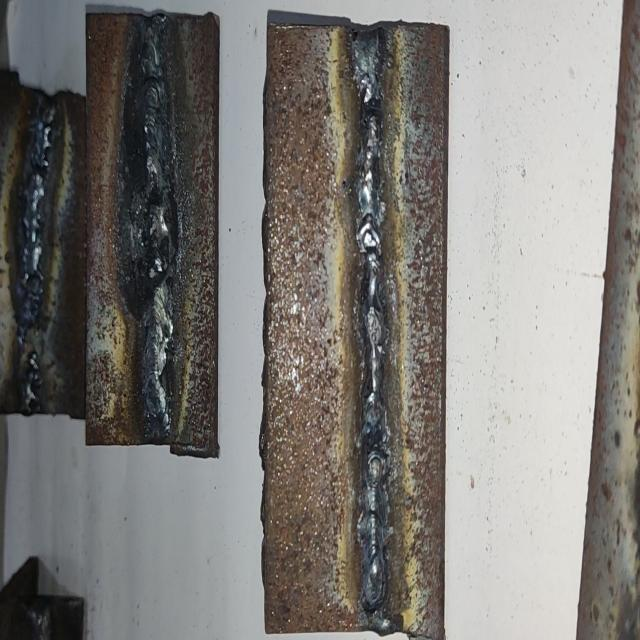Defect: (126, 185, 180, 302), (18, 303, 50, 386)
Welding Line: (355, 29, 387, 616), (140, 26, 172, 437), (20, 100, 56, 405)
Workpiece: (265, 18, 448, 636), (90, 12, 218, 454), (0, 83, 87, 418)
